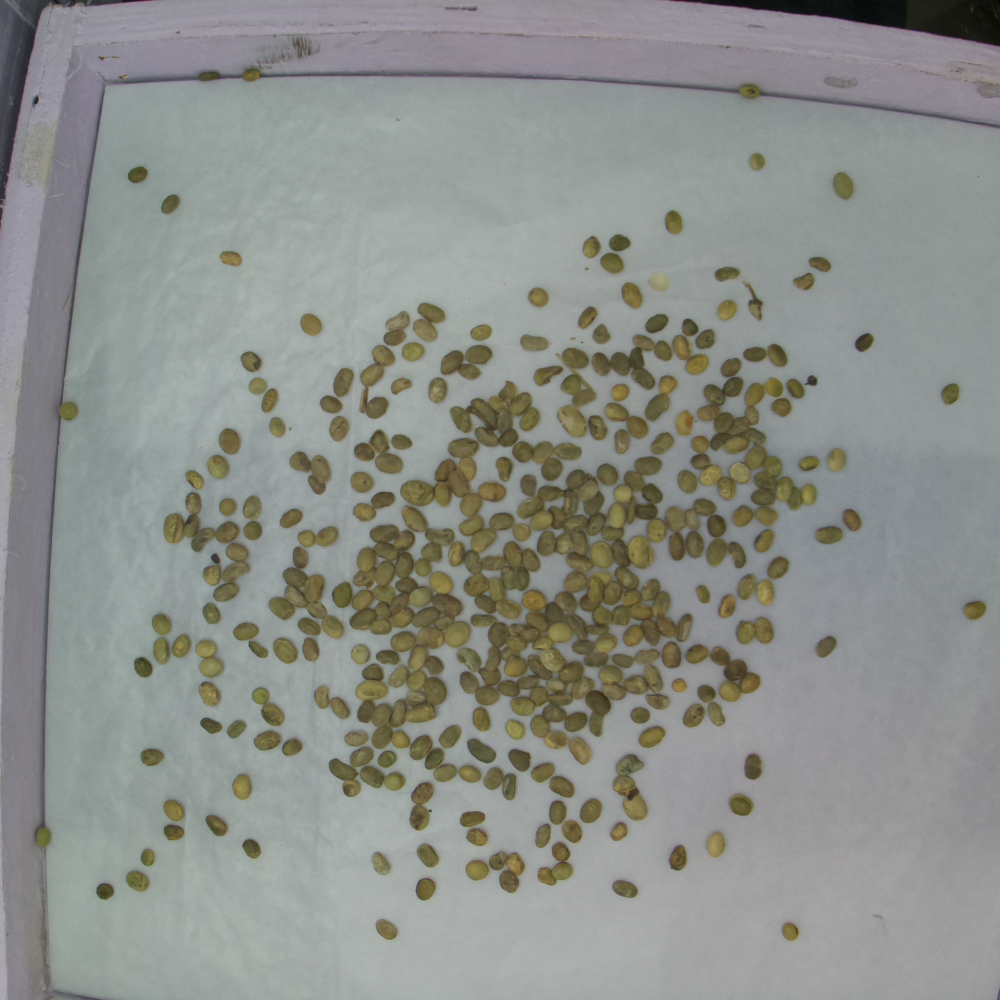green: (742, 279, 777, 321), (555, 406, 588, 439), (829, 168, 860, 203), (399, 480, 436, 505), (627, 535, 655, 567), (740, 751, 767, 784), (813, 524, 850, 547), (840, 503, 868, 533), (568, 733, 594, 765), (428, 594, 464, 617), (414, 842, 443, 870), (470, 397, 496, 428), (614, 753, 649, 776), (162, 512, 185, 546), (579, 574, 603, 606), (705, 537, 728, 570), (399, 506, 428, 532), (623, 797, 652, 823), (416, 299, 447, 323), (445, 621, 472, 648), (298, 312, 326, 338), (197, 679, 223, 707), (548, 774, 578, 798), (418, 680, 449, 703), (639, 725, 670, 748), (333, 367, 355, 399), (374, 452, 406, 474), (853, 326, 879, 353), (526, 284, 552, 311), (128, 655, 155, 681), (823, 446, 850, 472), (681, 702, 706, 730), (369, 561, 398, 585), (519, 332, 552, 353), (581, 796, 604, 826), (372, 918, 403, 940), (371, 340, 397, 366), (685, 353, 711, 379), (753, 529, 779, 555), (138, 744, 165, 769), (300, 638, 325, 665), (230, 774, 255, 801), (370, 850, 395, 877), (410, 779, 435, 806), (619, 281, 643, 309), (218, 427, 242, 455), (463, 858, 491, 882), (327, 757, 359, 778), (304, 570, 325, 602), (814, 632, 838, 660), (728, 539, 749, 571), (412, 319, 441, 342), (531, 364, 564, 384), (503, 541, 525, 571), (150, 635, 171, 666), (438, 348, 463, 374), (190, 526, 216, 551), (704, 703, 730, 728), (767, 343, 791, 370), (197, 714, 224, 738), (506, 747, 533, 771), (458, 808, 492, 827), (330, 581, 353, 609), (221, 561, 253, 581), (410, 733, 430, 765), (562, 346, 591, 368), (268, 595, 293, 620), (739, 672, 764, 697), (596, 461, 621, 486), (662, 506, 687, 531), (311, 457, 337, 481), (240, 493, 264, 519), (767, 554, 791, 580), (213, 581, 240, 604), (270, 637, 297, 660), (125, 869, 152, 892), (409, 804, 432, 831), (464, 827, 495, 847), (610, 775, 638, 797), (329, 415, 350, 444), (587, 413, 608, 442), (464, 343, 493, 364), (669, 843, 690, 872), (355, 545, 376, 574), (601, 250, 626, 274), (574, 304, 598, 329), (755, 614, 775, 644), (555, 440, 585, 460), (611, 538, 631, 568), (125, 161, 148, 187), (716, 297, 739, 323), (287, 450, 313, 473), (204, 813, 227, 839), (780, 919, 803, 945), (438, 721, 464, 744), (471, 528, 497, 551), (355, 680, 390, 697), (348, 470, 375, 492), (260, 704, 287, 726), (323, 614, 345, 641), (480, 645, 502, 672), (704, 514, 731, 536), (650, 591, 672, 618), (962, 599, 989, 621), (736, 573, 757, 601), (172, 631, 192, 660), (611, 879, 640, 899), (686, 530, 706, 559), (536, 528, 556, 557), (626, 414, 650, 438), (365, 395, 389, 419), (414, 877, 438, 901), (677, 611, 695, 643), (580, 235, 603, 260), (391, 431, 416, 454), (729, 794, 754, 817), (238, 350, 264, 372), (448, 406, 470, 432), (208, 454, 230, 480), (718, 680, 740, 706), (231, 621, 261, 640), (633, 456, 663, 475), (182, 468, 209, 489), (706, 830, 727, 857), (484, 764, 505, 791), (452, 649, 479, 670), (799, 455, 826, 476), (584, 709, 605, 736), (448, 438, 481, 455), (664, 208, 684, 236), (603, 402, 631, 422), (280, 566, 308, 586), (749, 488, 777, 508), (406, 704, 435, 723), (479, 481, 508, 500), (487, 511, 516, 530), (360, 362, 385, 384), (647, 394, 669, 419), (496, 597, 521, 619), (642, 663, 664, 688), (730, 462, 755, 484), (649, 430, 674, 452), (591, 542, 613, 567), (940, 381, 962, 406), (148, 613, 174, 634), (199, 658, 225, 679), (531, 761, 557, 782), (55, 401, 82, 421), (447, 469, 467, 496), (500, 771, 518, 801), (368, 525, 398, 543), (540, 650, 567, 670), (669, 532, 687, 562), (562, 572, 589, 592), (753, 506, 781, 525), (503, 718, 526, 741), (202, 602, 224, 626), (225, 716, 247, 740), (162, 799, 186, 821), (317, 523, 341, 545), (419, 542, 443, 564), (391, 728, 415, 750), (528, 714, 550, 738), (587, 691, 611, 713), (672, 410, 694, 434), (677, 469, 699, 493), (531, 440, 555, 462), (712, 264, 743, 281), (160, 192, 181, 217), (644, 313, 669, 334), (694, 328, 719, 349), (589, 352, 610, 377), (632, 370, 657, 391), (763, 375, 784, 400), (370, 428, 391, 453), (194, 637, 219, 658), (564, 710, 589, 731), (538, 460, 563, 481), (694, 403, 723, 421), (638, 483, 667, 501), (303, 600, 329, 620), (419, 657, 445, 677), (661, 640, 681, 666), (700, 464, 726, 484), (673, 333, 692, 360), (740, 345, 767, 364), (611, 428, 630, 455), (428, 377, 447, 404), (340, 780, 367, 799), (348, 746, 375, 765), (314, 685, 333, 712), (416, 628, 443, 647), (603, 683, 630, 702), (692, 497, 719, 516), (503, 571, 535, 587), (267, 416, 290, 438), (499, 870, 521, 893), (711, 645, 733, 668), (504, 657, 527, 679), (560, 821, 584, 842), (545, 729, 569, 750), (731, 506, 755, 527), (609, 505, 630, 529), (255, 730, 280, 750), (406, 647, 426, 672), (686, 642, 711, 662), (509, 697, 534, 717), (716, 594, 736, 619), (756, 579, 776, 604), (747, 445, 767, 470), (219, 249, 245, 268), (160, 823, 186, 842), (355, 697, 374, 723), (458, 515, 484, 534), (641, 619, 660, 645), (224, 543, 253, 560), (473, 706, 490, 735), (382, 330, 409, 348), (384, 769, 406, 791), (361, 765, 383, 787), (556, 592, 578, 614), (771, 395, 792, 418), (138, 846, 161, 867), (724, 659, 747, 680), (521, 549, 542, 572), (184, 490, 204, 514), (548, 799, 568, 823), (457, 764, 481, 784), (352, 608, 376, 628), (425, 526, 455, 542), (542, 703, 566, 723), (526, 655, 550, 675), (647, 516, 667, 540), (632, 648, 666, 662), (790, 484, 807, 512), (245, 639, 270, 658), (547, 623, 572, 642), (623, 675, 648, 694), (494, 456, 513, 481), (570, 530, 589, 555), (560, 375, 586, 393), (467, 324, 496, 340), (538, 484, 567, 500), (723, 377, 744, 399), (743, 384, 764, 406), (243, 519, 265, 540), (505, 852, 526, 874), (351, 586, 372, 608), (410, 586, 431, 608), (430, 572, 452, 593), (386, 665, 408, 686), (464, 573, 486, 594), (460, 494, 482, 515), (584, 493, 606, 514), (601, 582, 622, 604), (747, 149, 767, 172), (319, 394, 342, 414), (435, 458, 455, 481), (519, 408, 539, 431), (284, 585, 307, 605), (459, 670, 479, 693), (695, 684, 718, 704), (463, 550, 483, 573), (735, 620, 755, 643), (350, 502, 377, 519), (535, 822, 552, 849), (719, 476, 736, 503), (483, 556, 510, 573), (516, 497, 543, 514), (426, 747, 445, 771), (762, 455, 786, 474), (529, 511, 553, 530), (575, 480, 599, 499), (608, 233, 633, 251), (401, 342, 426, 360), (369, 492, 397, 508), (468, 613, 496, 629), (775, 475, 791, 503), (574, 389, 600, 406), (564, 514, 590, 531), (282, 736, 303, 757), (241, 839, 262, 860), (94, 881, 115, 902), (331, 697, 351, 719), (296, 529, 316, 551), (370, 726, 390, 748), (560, 661, 582, 681), (545, 601, 565, 623), (567, 469, 587, 491), (246, 376, 269, 395), (611, 352, 630, 375), (712, 413, 735, 432), (487, 576, 506, 599), (611, 487, 634, 506), (375, 650, 404, 665), (809, 254, 836, 270), (728, 417, 752, 435), (389, 376, 413, 394), (552, 862, 579, 878), (298, 618, 322, 636), (397, 551, 413, 578), (488, 621, 506, 645), (555, 530, 571, 557), (565, 555, 592, 571), (793, 272, 818, 289), (631, 333, 656, 350), (291, 545, 308, 570), (627, 706, 652, 723), (518, 592, 543, 609), (635, 502, 660, 519), (648, 271, 669, 291), (355, 382, 370, 410), (511, 391, 531, 412), (307, 475, 327, 496), (218, 497, 238, 518), (216, 522, 236, 543), (536, 867, 557, 887), (394, 529, 415, 549), (609, 382, 631, 401), (702, 384, 724, 403), (33, 825, 52, 847), (278, 507, 300, 526), (414, 557, 433, 579), (418, 608, 440, 627), (519, 473, 538, 495), (594, 323, 612, 346), (460, 457, 478, 480), (374, 704, 392, 727), (525, 611, 548, 629), (801, 481, 819, 504), (501, 379, 518, 403), (372, 584, 396, 601), (640, 576, 657, 600), (722, 358, 742, 378), (354, 442, 374, 462), (496, 409, 512, 434), (377, 748, 397, 768), (361, 664, 386, 680), (645, 691, 670, 707), (658, 375, 679, 394), (474, 426, 493, 447), (386, 311, 408, 329), (203, 564, 221, 586), (477, 686, 499, 704), (342, 730, 370, 744), (435, 764, 458, 781), (496, 682, 519, 699), (477, 669, 501, 685), (686, 507, 702, 531), (681, 317, 701, 336), (694, 586, 713, 606), (474, 594, 495, 612), (569, 680, 594, 695), (655, 339, 672, 361), (250, 686, 272, 703), (262, 388, 278, 411), (689, 434, 708, 453), (622, 587, 641, 606), (631, 347, 646, 371), (787, 377, 805, 397), (610, 821, 630, 839), (551, 842, 569, 862), (394, 609, 415, 626), (352, 643, 369, 664), (594, 609, 615, 626), (374, 543, 396, 559), (369, 620, 391, 636), (571, 641, 596, 655), (488, 394, 511, 409), (447, 543, 462, 566), (610, 653, 633, 668), (624, 471, 643, 489), (514, 443, 532, 462), (511, 524, 530, 542), (586, 517, 604, 536), (742, 406, 762, 423), (498, 430, 518, 447), (618, 569, 638, 586), (614, 606, 631, 626), (623, 626, 643, 643), (437, 482, 450, 508), (391, 633, 413, 648), (184, 511, 196, 538), (507, 633, 526, 650), (599, 666, 622, 680), (631, 604, 651, 620), (485, 852, 506, 867), (755, 472, 776, 487), (549, 504, 564, 525), (392, 697, 404, 723), (584, 655, 609, 667), (691, 452, 711, 467), (599, 526, 624, 538), (530, 686, 547, 703), (592, 567, 616, 579), (399, 579, 421, 592), (670, 677, 689, 692), (391, 592, 405, 612), (532, 638, 555, 650), (432, 613, 453, 626), (411, 672, 425, 691), (546, 679, 566, 692), (547, 694, 573, 704), (521, 675, 540, 688), (373, 603, 391, 616), (567, 494, 577, 516), (521, 630, 540, 640), (806, 374, 820, 387), (508, 623, 518, 633)
